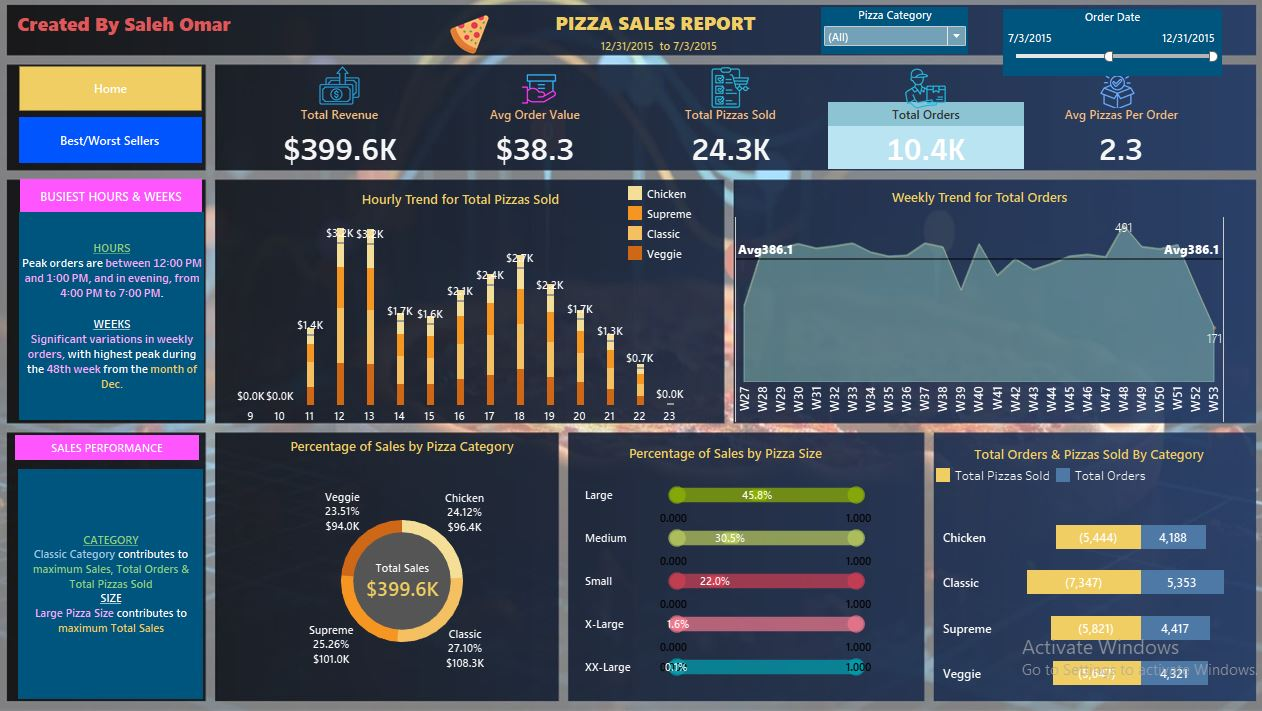

Layout of this report page (visuals, bound fields, positions):
{"tool":"tableau","page":{"name":"Home","canvas":[1000,1000],"units":"permille","ordinal":1},"visuals":[{"type":"image","param":"C:/Users/2019/Downloads/Pizza Sales Project/Pizza Sales Images-20240918T170220Z-","box":[6.9,13.5,986.1,973]},{"type":"text","box":[401.7,23.7,230.3,54.1]},{"type":"filter","title":"Hourly Trend for Total Pizzas Sold","param":"[federated.1tarbbl19i76t018t7sm41ueucs1].[none:pizza_category:nk]","box":[638.1,30.4,108.2,64.2]},{"type":"filter","title":"Hourly Trend for Total Pizzas Sold","param":"[federated.1tarbbl19i76t018t7sm41ueucs1].[none:order_date:qk]","box":[771.4,32.1,160.2,91.2]},{"type":"image","param":"C:/Users/2019/Downloads/Pizza Sales Project/Pizza Sales Images-20240918T170220Z-","box":[366.2,35.5,29.4,62.5]},{"type":"worksheet","title":"Date Range","mark":"Automatic","box":[429.4,57.4,180.1,50.7]},{"type":"image","param":"C:/Users/2019/Downloads/Pizza Sales Project/Pizza Sales Images-20240918T170220Z-","box":[268.9,104.7,34.7,62.5]},{"type":"dashboard-object","box":[51.1,109.8,134.2,60.8]},{"type":"image","param":"C:/Users/2019/Downloads/Pizza Sales Project/Pizza Sales Images-20240918T170220Z-","box":[553.9,109.8,35.6,57.4]},{"type":"image","param":"C:/Users/2019/Downloads/Pizza Sales Project/Pizza Sales Images-20240918T170220Z-","box":[698.1,111.5,33,57.4]},{"type":"image","param":"C:/Users/2019/Downloads/Pizza Sales Project/Pizza Sales Images-20240918T170220Z-","box":[413.2,113.2,37.4,52.4]},{"type":"image","param":"C:/Users/2019/Downloads/Pizza Sales Project/Pizza Sales Images-20240918T170220Z-","box":[839.7,113.2,31.2,54.1]},{"type":"worksheet","title":"KPI Banner","mark":"Automatic","box":[214.6,158.8,715.1,91.2]},{"type":"dashboard-object","box":[51.1,179.1,134.2,62.5]},{"type":"text","box":[52,263.5,133.3,47.3]},{"type":"legend","title":"Hourly Trend for Total Pizzas Sold","param":"[federated.1tarbbl19i76t018t7sm41ueucs1].[none:pizza_category:nk]","box":[495.1,268.6,69.5,153.7]},{"type":"worksheet","title":"Weekly Trend for Total Orders","mark":"Area","rows":["Calculation_922112086785069060","Calculation_922112086785069060"],"cols":["order_date"],"box":[575.2,270.3,358,332.8]},{"type":"worksheet","title":"Hourly Trend for Total Pizzas Sold","mark":"Bar","rows":["Calculation_922112086785839110","Calculation_922112086785839110"],"cols":["order_time"],"box":[210.2,272,328.6,324.3]},{"type":"text","box":[51.1,307.4,135.9,282.1]},{"type":"worksheet","title":"Percentage of Sales by Pizza Category","mark":"Pie","rows":["Calculation_922112086867038219","Calculation_922112086867038219"],"box":[213.8,606.4,235.5,356.4]},{"type":"text","box":[48.5,609.8,135.1,33.8]},{"type":"text","box":[732.5,609.8,203.5,50.7]},{"type":"worksheet","title":"Percentage of Sales by Pizza Size","mark":"Line","rows":["pizza_size"],"box":[461.5,616.6,214.7,336.2]},{"type":"legend","title":"Total Orders & Pizzas Sold By Category","param":"[federated.1tarbbl19i76t018t7sm41ueucs1].[:Measure Names]","box":[720.4,650.3,215.6,55.7]},{"type":"text","box":[50.2,655.4,135.9,312.5]},{"type":"worksheet","title":"Total Orders & Pizzas Sold By Category","mark":"Automatic","rows":["pizza_category"],"box":[722.9,716.2,217.3,246.6]}]}

Visuals, with their boxes on the dashboard's canvas, which has no fixed pixel size, in thousandths of its width and height (x1, y1, x2, y2). These are canvas units, not pixel positions in the 1262x711 screenshot, which may show the page scaled, cropped or inside an application window:
image: 7/14/993/986
text: 402/24/632/78
"Hourly Trend for Total Pizzas Sold" filter: 638/30/746/95
"Hourly Trend for Total Pizzas Sold" filter: 771/32/932/123
image: 366/36/396/98
"Date Range" worksheet: 429/57/610/108
image: 269/105/304/167
dashboard-object: 51/110/185/171
image: 554/110/590/167
image: 698/112/731/169
image: 413/113/451/166
image: 840/113/871/167
"KPI Banner" worksheet: 215/159/930/250
dashboard-object: 51/179/185/242
text: 52/264/185/311
"Hourly Trend for Total Pizzas Sold" legend: 495/269/565/422
"Weekly Trend for Total Orders" worksheet (Area marks): 575/270/933/603
"Hourly Trend for Total Pizzas Sold" worksheet (Bar marks): 210/272/539/596
text: 51/307/187/590
"Percentage of Sales by Pizza Category" worksheet (Pie marks): 214/606/449/963
text: 48/610/184/644
text: 732/610/936/660
"Percentage of Sales by Pizza Size" worksheet (Line marks): 462/617/676/953
"Total Orders & Pizzas Sold By Category" legend: 720/650/936/706
text: 50/655/186/968
"Total Orders & Pizzas Sold By Category" worksheet: 723/716/940/963
